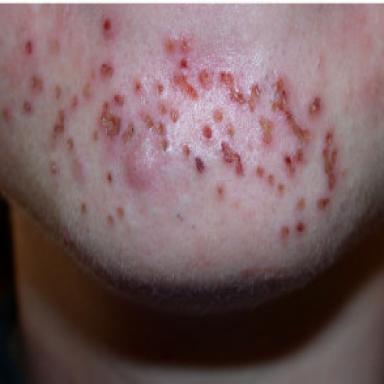acne: (272, 78, 310, 143), (125, 137, 157, 190), (220, 72, 260, 111), (323, 131, 337, 190), (100, 102, 121, 138), (221, 142, 243, 175), (174, 73, 198, 99), (284, 149, 303, 175), (259, 117, 273, 144), (53, 110, 65, 139), (139, 111, 155, 128), (122, 123, 134, 142), (309, 96, 321, 115), (31, 75, 43, 90), (199, 70, 209, 87), (195, 157, 204, 173), (101, 64, 113, 76), (180, 39, 189, 54), (317, 198, 329, 209), (213, 109, 223, 122), (114, 94, 125, 105), (169, 110, 179, 122), (83, 82, 91, 97), (227, 123, 235, 137), (203, 125, 211, 139), (296, 198, 305, 210), (167, 39, 175, 52), (2, 108, 10, 121), (296, 221, 305, 232), (182, 145, 191, 156), (103, 19, 111, 31), (157, 122, 164, 135), (50, 161, 57, 174), (116, 208, 124, 219), (23, 101, 31, 112), (281, 226, 289, 236), (55, 85, 61, 98), (268, 174, 275, 185), (257, 166, 264, 177), (160, 103, 167, 114), (162, 139, 168, 151), (67, 138, 73, 150), (25, 41, 31, 53), (180, 59, 187, 69), (107, 215, 114, 225), (278, 183, 284, 193), (135, 81, 141, 91), (93, 129, 98, 140), (72, 95, 77, 106), (81, 203, 86, 214), (217, 186, 223, 195), (157, 83, 163, 92), (107, 173, 112, 182), (91, 71, 95, 78)
